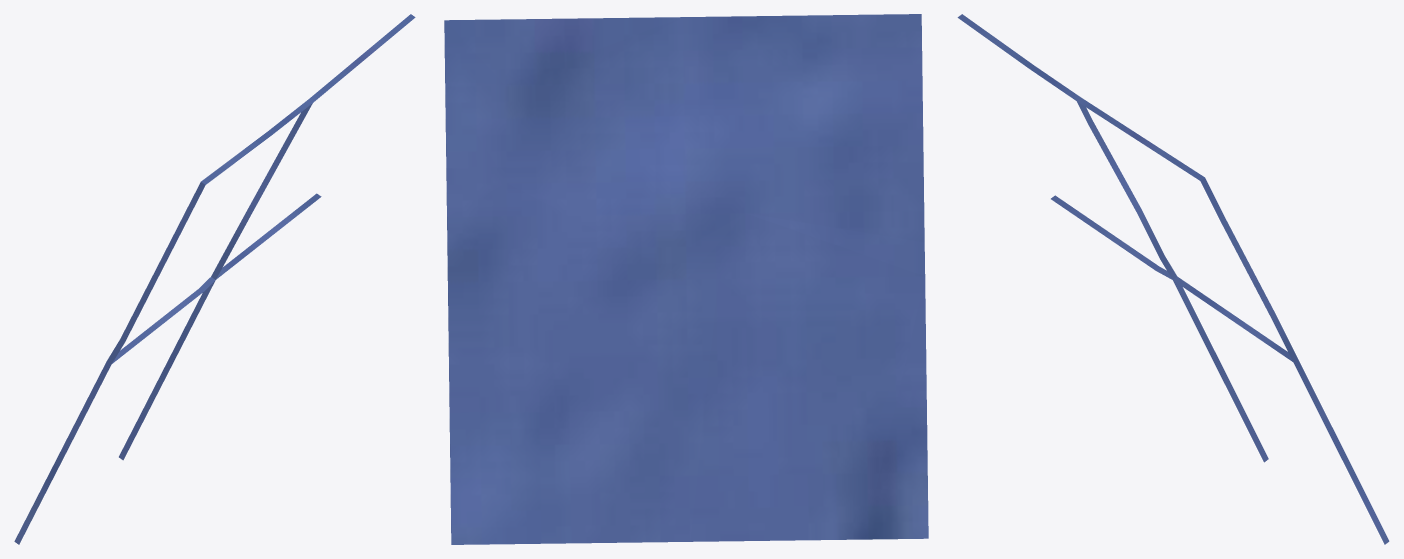
3 renders of one model, left to right at view 1: azimuth 30°, elevation 25°; view 2: azimuth 150°, elevation 25°; view 3: azimuth 270°, elevation 25°, orthographic. The views are drawn at different scales.
Size of the model in its own units: 9804 by 8881 by 8374.
Materials: 1 (1 with a texture image).
